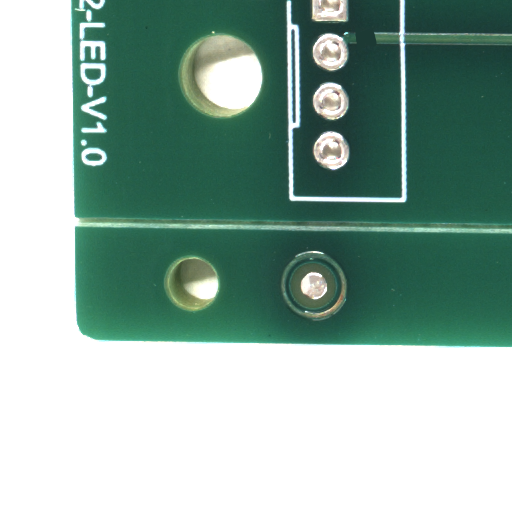Open_circuit: (366, 38, 389, 55)
